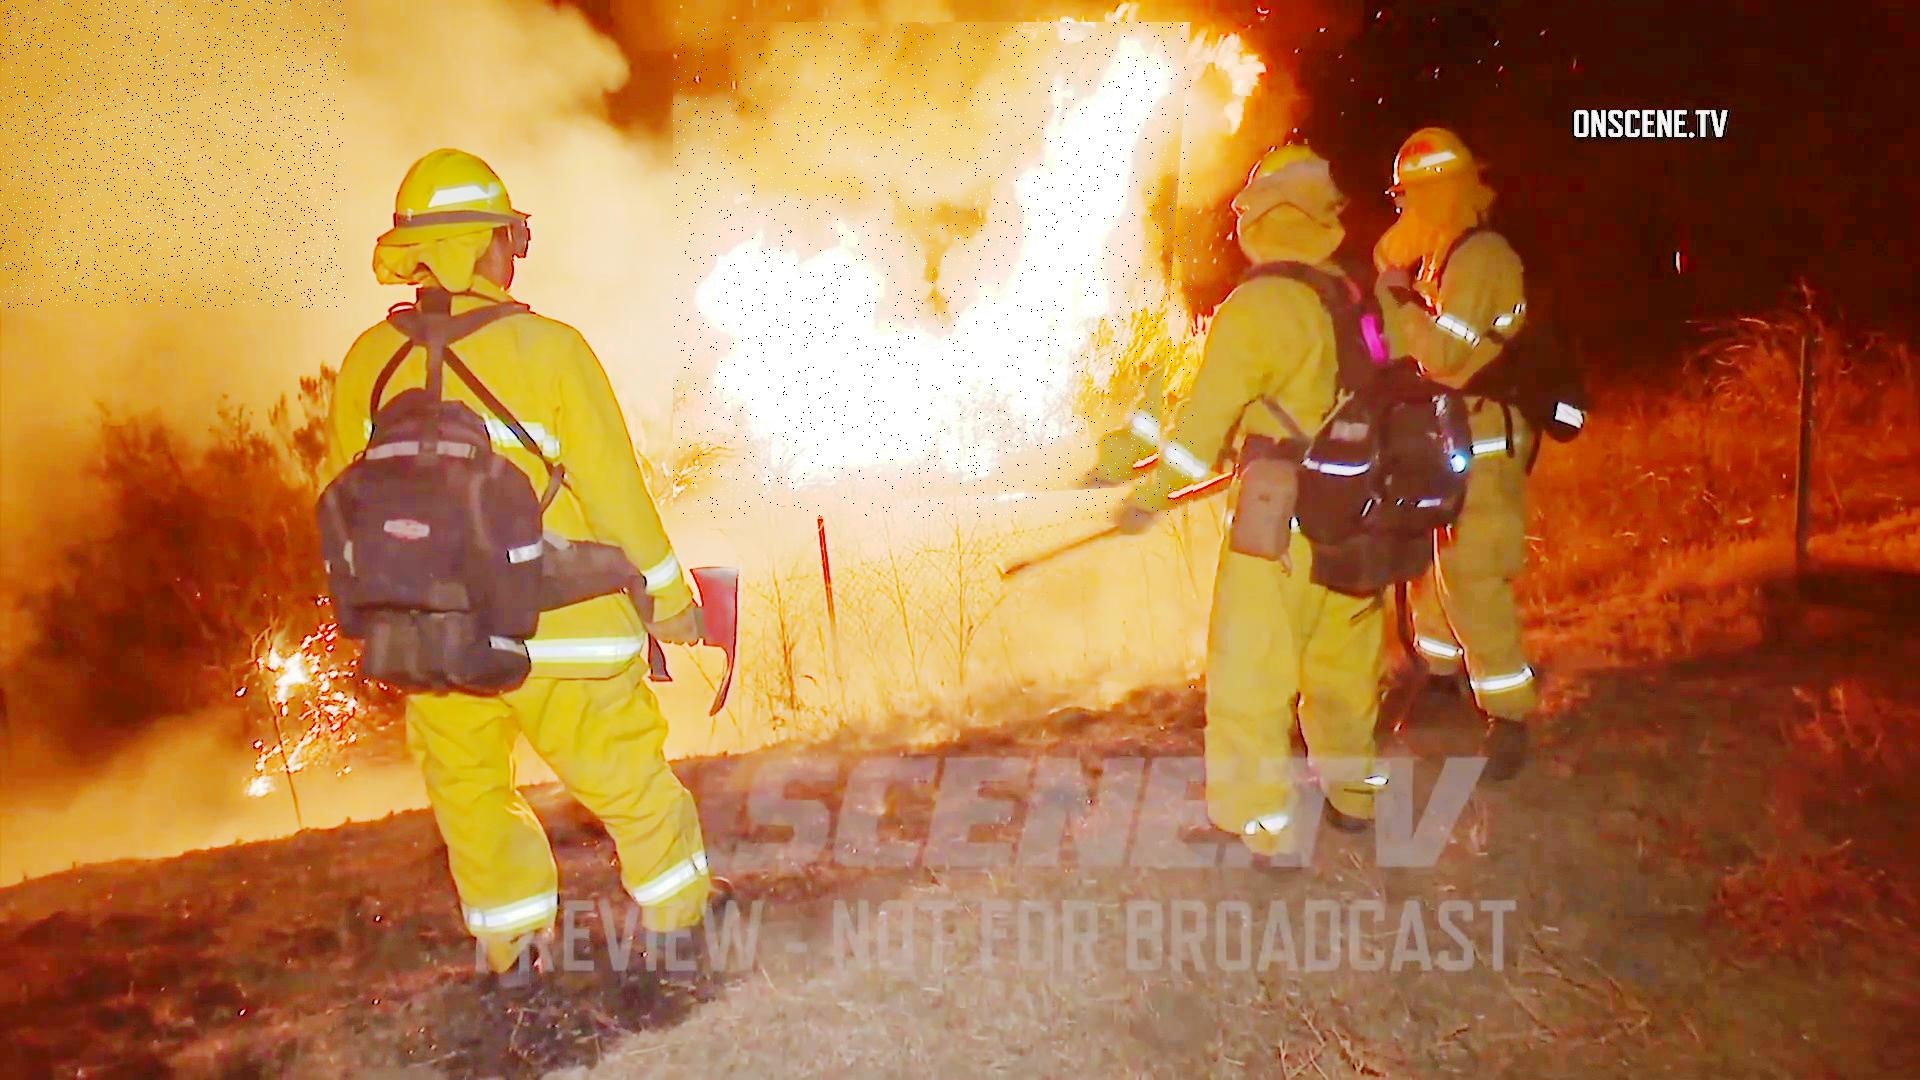fire: (673, 22, 1193, 518)
smoke: (0, 0, 345, 309)
